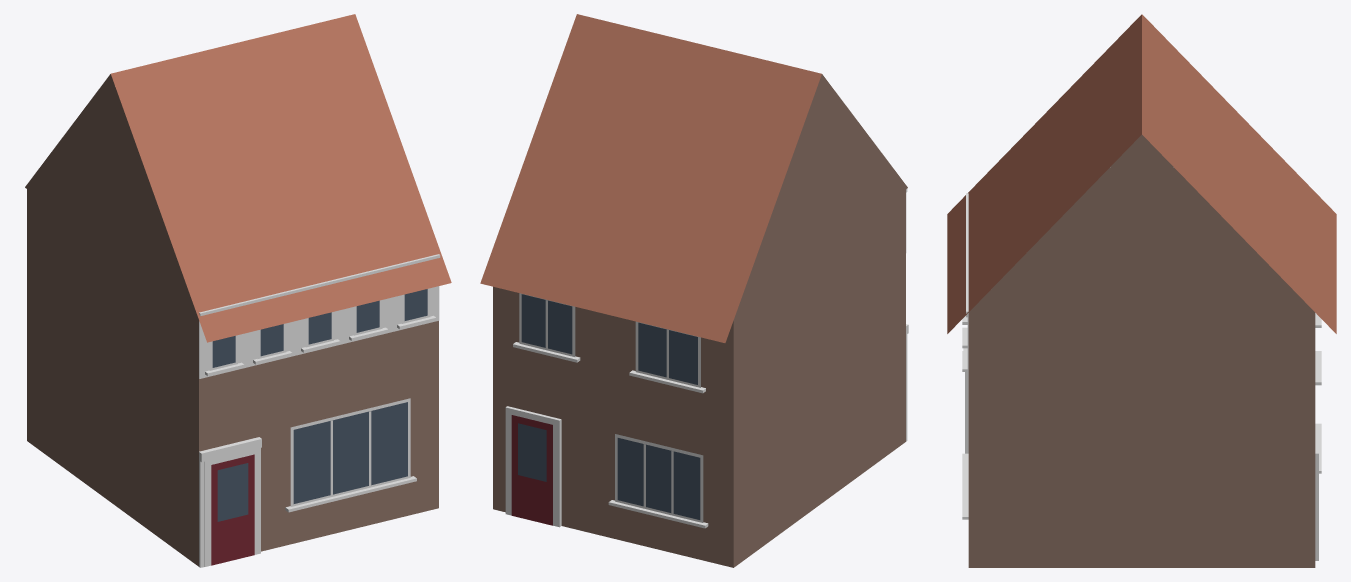
Rendered from nn-band__band__2__gable__long__solid.glb.
The picture shows the model from 3 angles, left to right: view 1: azimuth 30°, elevation 25°; view 2: azimuth 150°, elevation 25°; view 3: azimuth 270°, elevation 25°; orthographic projection.
Visible parts, largest first — view 1: nn-band__band__2__gable__long__solid; view 2: nn-band__band__2__gable__long__solid; view 3: nn-band__band__2__gable__long__solid.
Boxes of the visible parts, x1,y1,x2,y2 form: nn-band__band__2__gable__long__solid: (25,14,451,567); nn-band__band__2__gable__long__solid: (480,14,908,567); nn-band__band__2__gable__long__solid: (947,14,1336,567).
Bounding box in the file's own units: 5.34 × 8.98 × 7.29.
